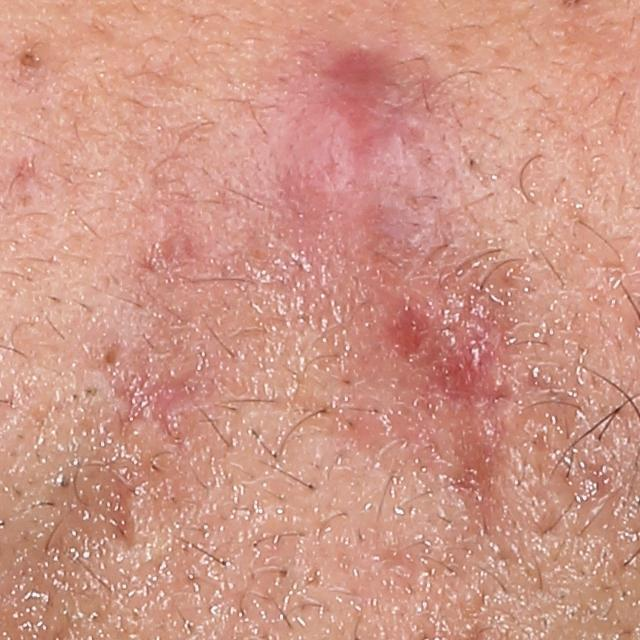comedo: (16, 47, 45, 73)
nodule: (273, 49, 525, 422)
